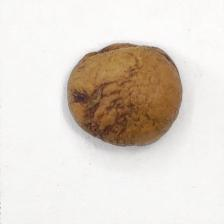NG: (66, 76, 136, 147)
